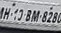character: (30, 9, 40, 22), (2, 7, 11, 19), (24, 8, 31, 21), (41, 10, 48, 22), (46, 11, 53, 22)
